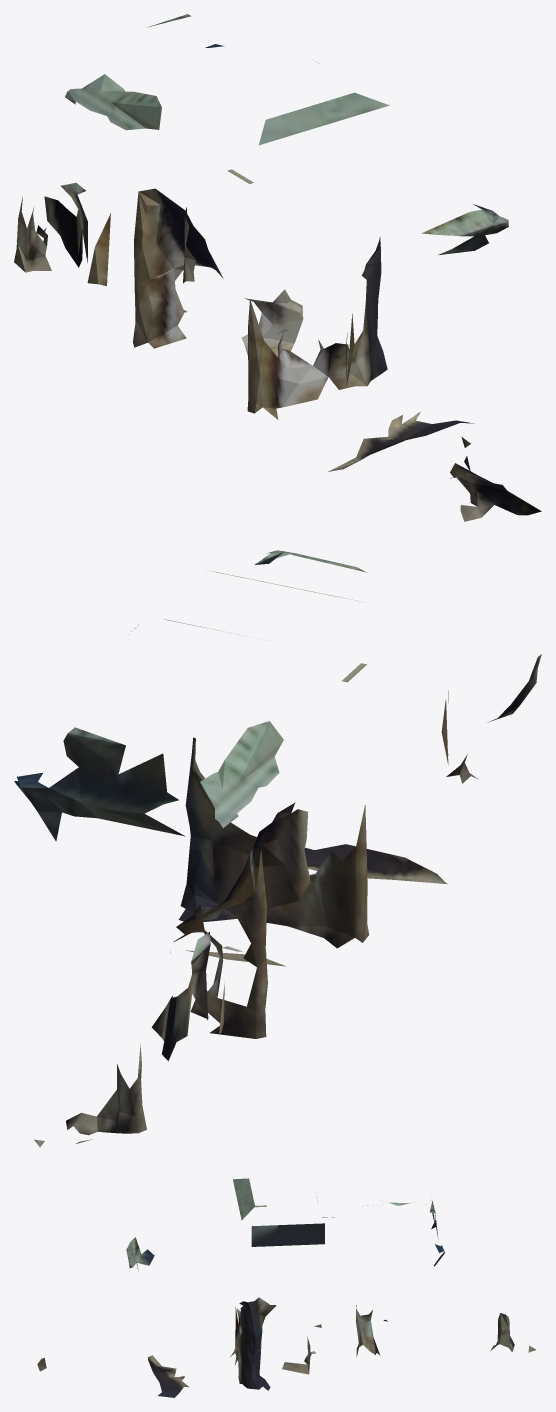
The model's file is hero-brandenburger-tor-3898_58196-material-5.glb.
The picture shows the model from 3 angles, top to bottom: view 1: azimuth 30°, elevation 25°; view 2: azimuth 150°, elevation 25°; view 3: azimuth 270°, elevation 25°; orthographic projection. The views are drawn at different scales.
Visible parts, largest first — view 1: world; view 2: world; view 3: world.
Part boxes in pixels (bbox=[...]): world: bbox=[14, 14, 541, 521]; world: bbox=[14, 550, 541, 1147]; world: bbox=[37, 1178, 535, 1397].
Size of the model in its own units: 15.91 by 21.66 by 56.91.
1 material, 1 textured.
